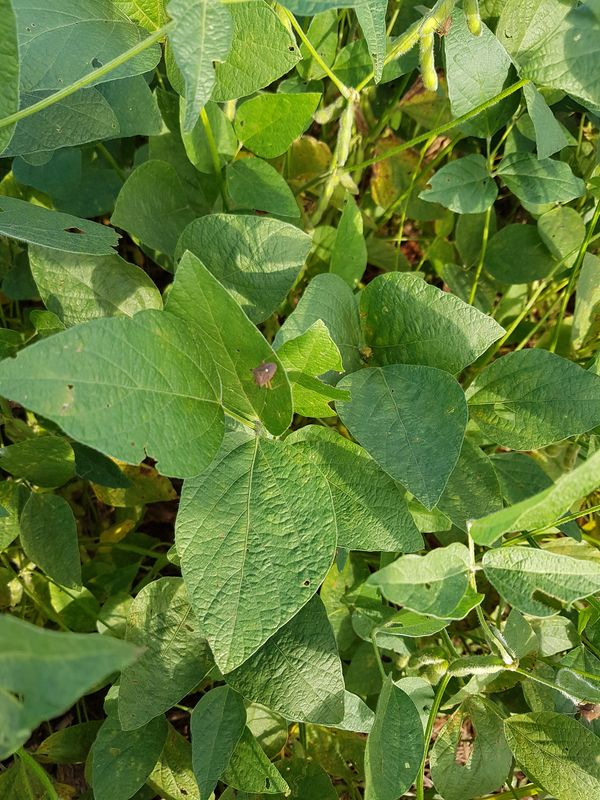Euschistus_heros_adulto: (242, 352, 289, 396), (567, 695, 600, 735), (431, 12, 456, 42)
Euschistus_heros_ninfa: (353, 341, 378, 364)
Rhammatocerus_schistocercoides: (447, 705, 484, 776)
